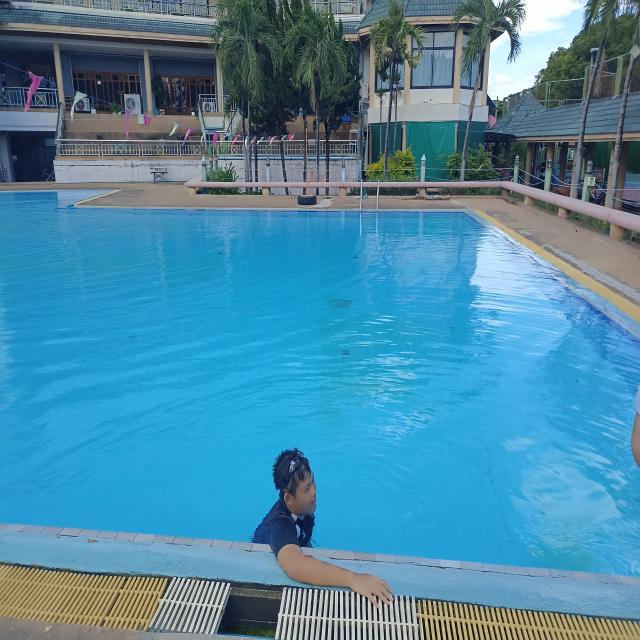Swimming: (253, 449, 395, 610)
